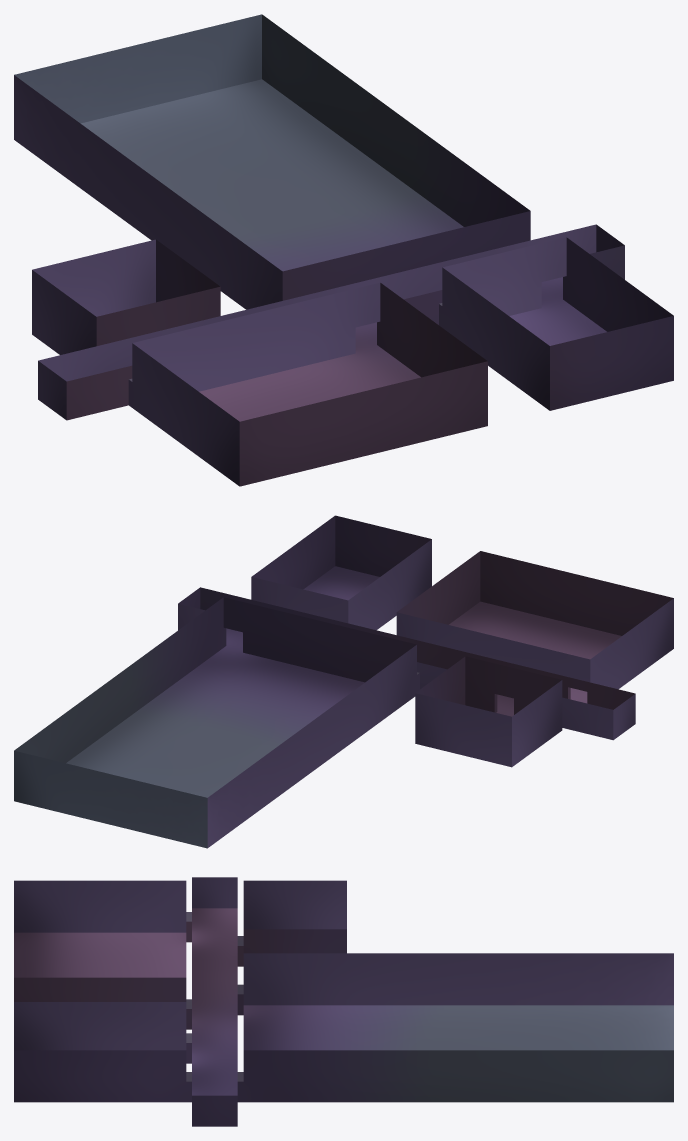
The model's file is vertexColors1.fbx.
3 renders of one model, top to bottom at view 1: azimuth 30°, elevation 25°; view 2: azimuth 150°, elevation 25°; view 3: azimuth 270°, elevation 25°, orthographic. The views are drawn at different scales.
Parts seen in each view (by area): view 1: extralarge.001; view 2: extralarge.001; view 3: extralarge.001.
Boxes of the visible parts, <box> form: extralarge.001: <box>14,14,673,486</box>; extralarge.001: <box>14,515,673,848</box>; extralarge.001: <box>14,877,673,1126</box>.
Bounding box in the file's own units: 9000 × 1000 × 11500.
